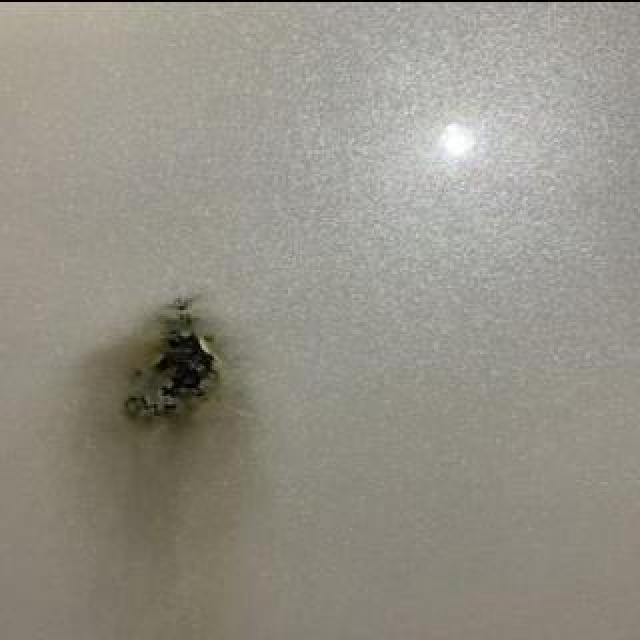crack: (121, 298, 217, 426)
